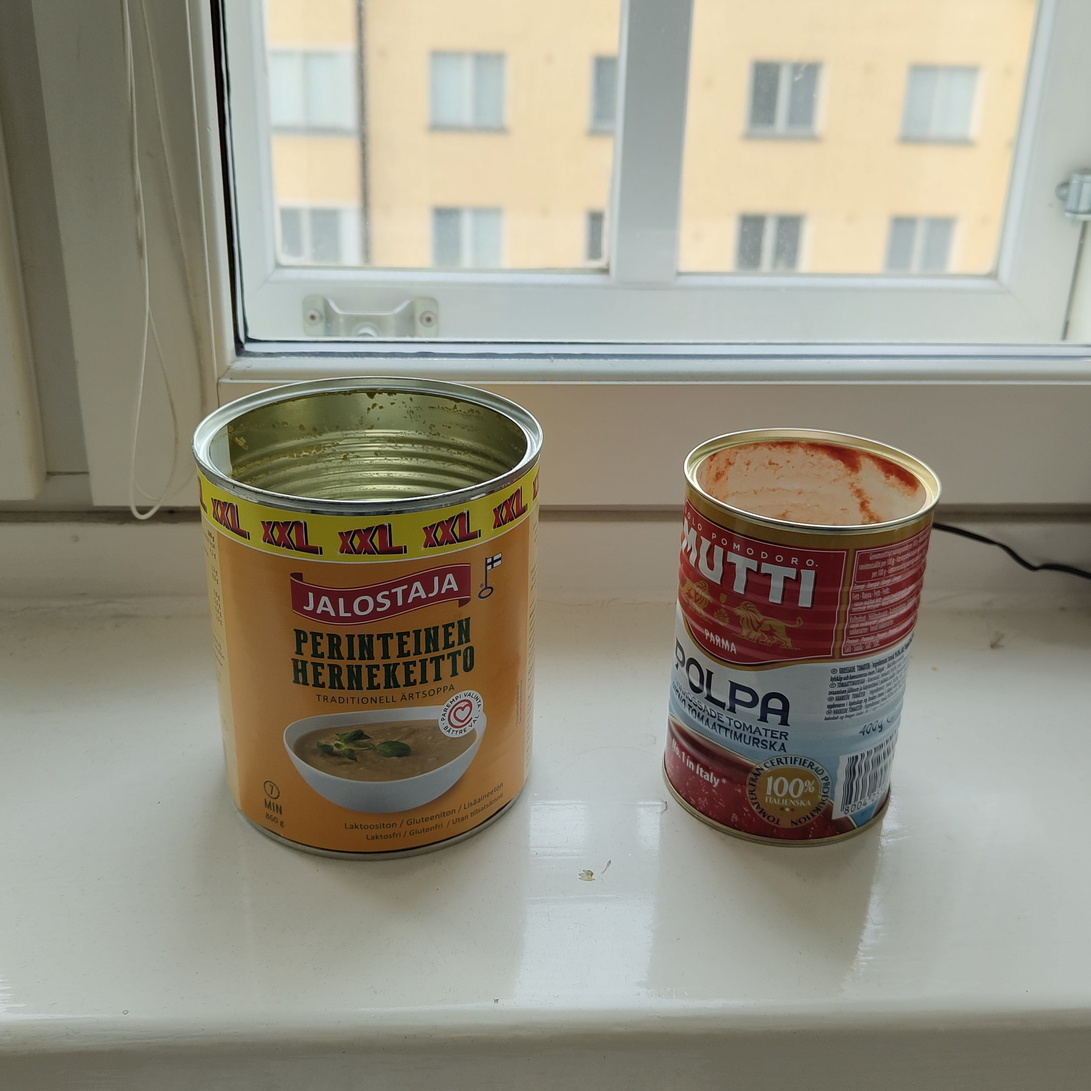Konservburk: (190, 375, 543, 862), (662, 426, 944, 849)
